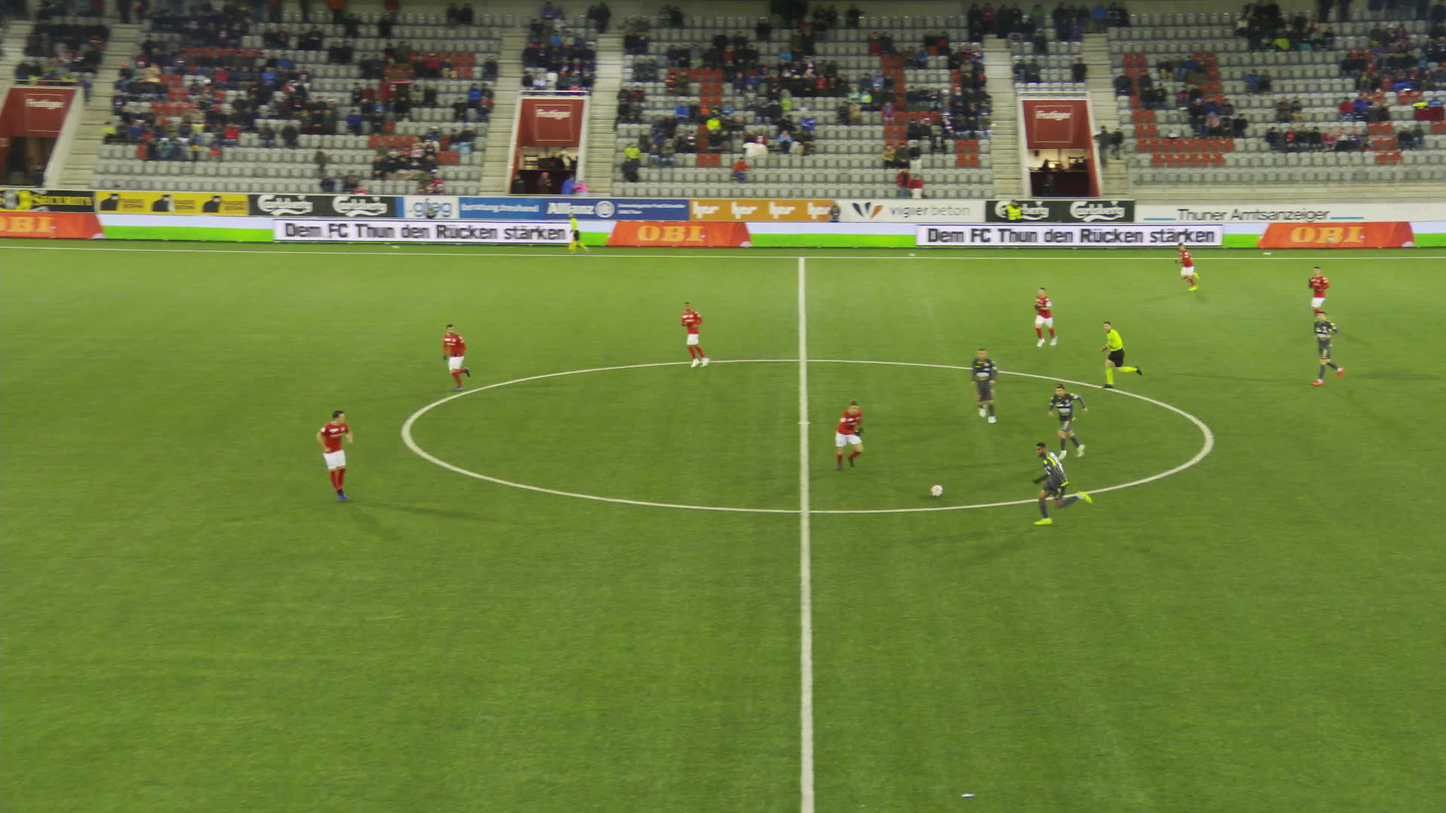ball: (932, 483, 945, 496)
player: (1025, 442, 1086, 530), (307, 409, 357, 507), (825, 397, 873, 478), (1043, 384, 1086, 464), (433, 318, 475, 395), (961, 343, 998, 426), (672, 300, 713, 371), (1307, 312, 1341, 391), (1025, 286, 1057, 352), (1301, 262, 1333, 326), (1170, 242, 1200, 294)
referee: (1094, 321, 1133, 391), (562, 209, 586, 257)
